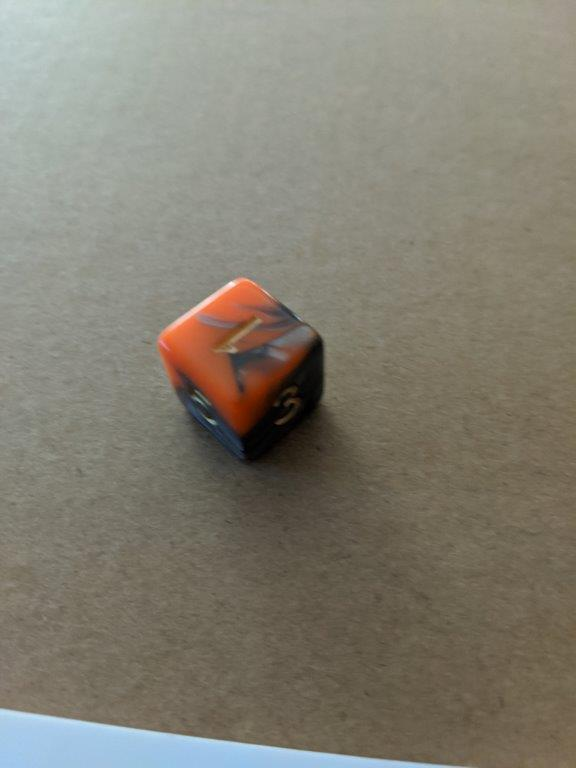d6-1: (158, 274, 327, 465)
